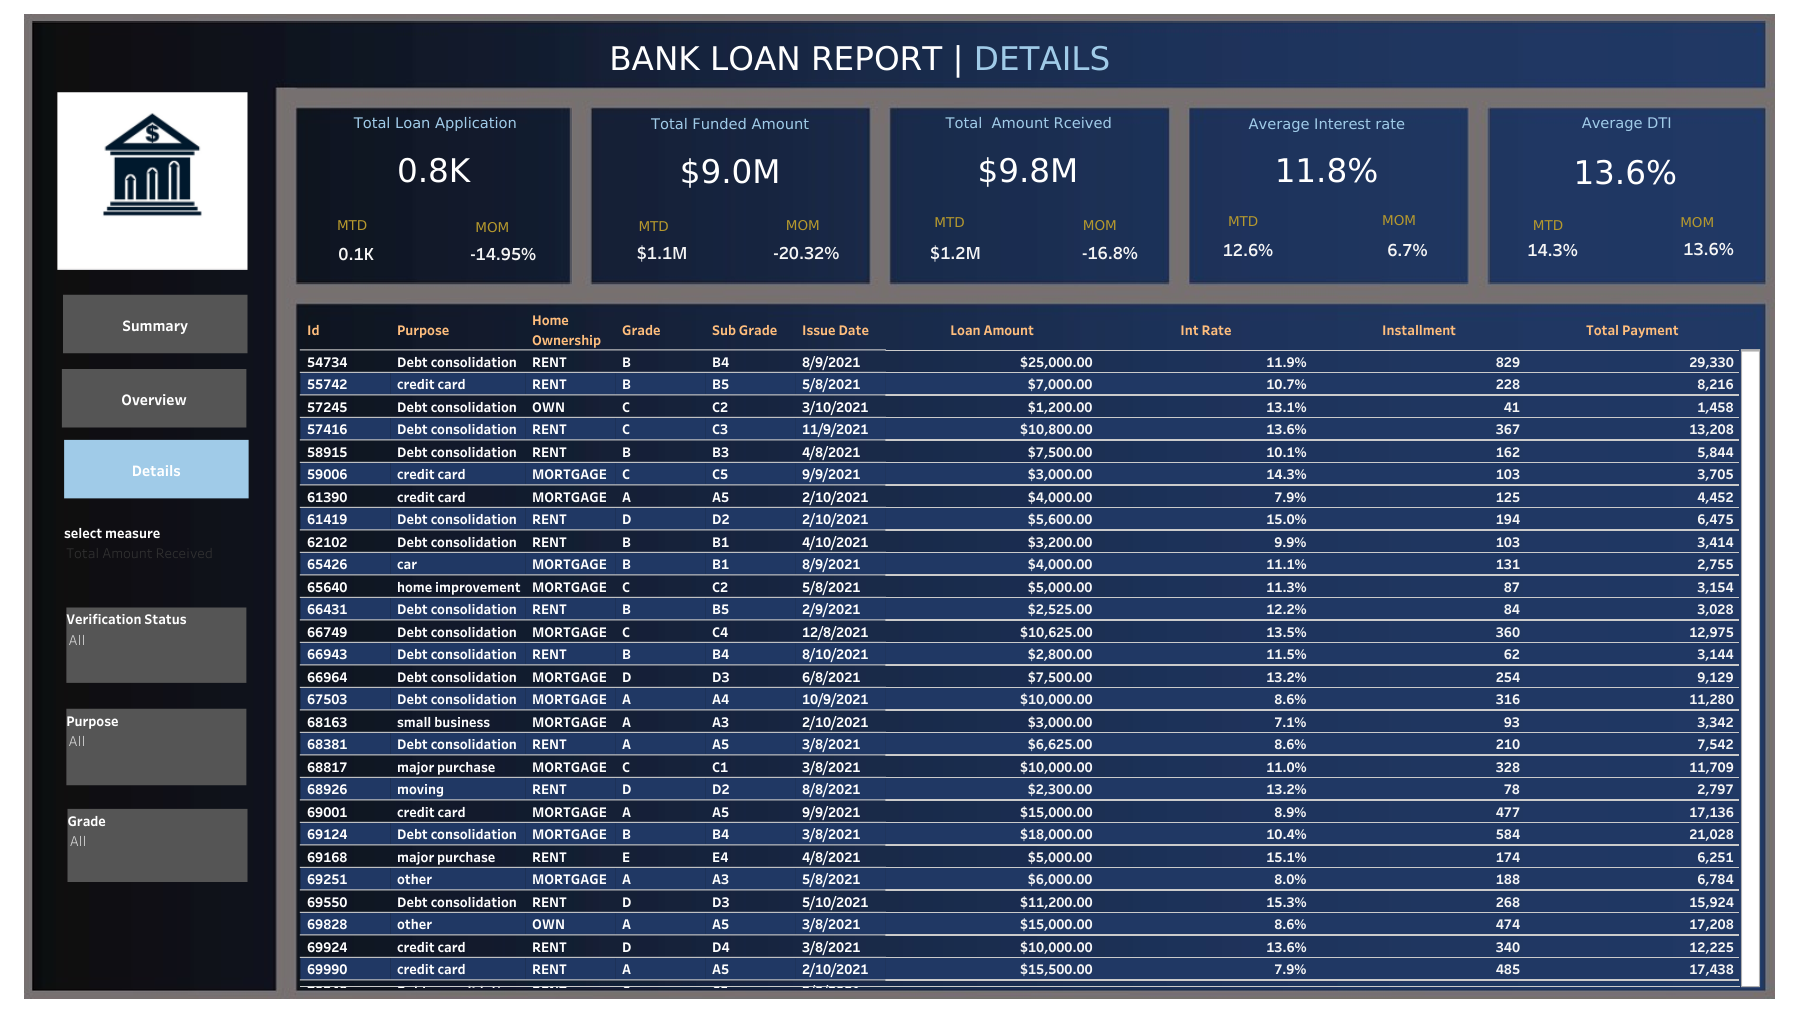

The page's visual inventory and layout, read from the dashboard file:
{"tool":"tableau","page":{"name":"details ","canvas":[1600,900],"ordinal":0},"visuals":[{"type":"image","param":"Image/Tableau Background 3.jpg","box":[8,8,1584,884]},{"type":"text","box":[539,14,720,75]},{"type":"image","param":"Image/bank.jpg","box":[51,82,171,158]},{"type":"worksheet","title":"Total Loan Application","mark":"Automatic","box":[264,95,246,82]},{"type":"worksheet","title":"Total Amount Received","mark":"Automatic","box":[792,95,245,82]},{"type":"worksheet","title":"Average DTI","mark":"Automatic","box":[1323,95,246,84]},{"type":"worksheet","title":"Total Funded Amount","mark":"Automatic","box":[525,96,248,82]},{"type":"worksheet","title":"Average Interest rate","mark":"Automatic","box":[1055,96,249,80]},{"type":"text","box":[1226,180,100,30]},{"type":"text","box":[1089,181,63,30]},{"type":"text","box":[828,182,63,30]},{"type":"text","box":[1491,182,100,30]},{"type":"text","box":[297,184,63,30]},{"type":"text","box":[696,184,100,30]},{"type":"text","box":[960,184,100,30]},{"type":"text","box":[1360,184,63,30]},{"type":"text","box":[565,185,100,30]},{"type":"text","box":[420,186,100,30]},{"type":"worksheet","title":"MoM Average DTI","mark":"Automatic","box":[1461,198,116,43]},{"type":"worksheet","title":"MTD Average Interest Rate","mark":"Automatic","box":[1049,201,122,42]},{"type":"worksheet","title":"MoM Average Interest rate","mark":"Automatic","box":[1199,201,105,42]},{"type":"worksheet","title":"MTD Average DTI","mark":"Automatic","box":[1307,201,148,42]},{"type":"worksheet","title":"MoM Total Funded Amount","mark":"Automatic","box":[676,205,82,37]},{"type":"worksheet","title":"MTD Total Amount Received","mark":"Automatic","box":[778,205,145,38]},{"type":"worksheet","title":"MoM Total Amount Received","mark":"Automatic","box":[921,205,132,37]},{"type":"worksheet","title":"MTD Total Funded Amount","mark":"Automatic","box":[544,206,90,36]},{"type":"worksheet","title":"MTD Total Loan Applications","mark":"Automatic","box":[266,207,103,36]},{"type":"worksheet","title":"MoM Loan Applicationst","mark":"Automatic","box":[400,208,96,34]},{"type":"dashboard-object","box":[56,262,164,52]},{"type":"worksheet","title":"detail chart","mark":"Automatic","rows":["id","purpose","home_ownership","grade","sub_grade","issue_date"],"box":[267,275,1298,603]},{"type":"dashboard-object","box":[55,328,164,52]},{"type":"dashboard-object","box":[57,391,164,52]},{"type":"parameter","param":"[Parameters].[Parameter 1]","box":[57,463,160,58]},{"type":"filter","title":"Average DTI","param":"[federated.12hed4l0pgjz5j1dzlt8n1hdz370].[none:verification_status:nk]","box":[59,540,160,67]},{"type":"filter","title":"Average DTI","param":"[federated.12hed4l0pgjz5j1dzlt8n1hdz370].[none:purpose:nk]","box":[59,630,160,68]},{"type":"filter","title":"Average DTI","param":"[federated.12hed4l0pgjz5j1dzlt8n1hdz370].[none:grade:nk]","box":[60,719,160,65]}]}

Visuals, with their boxes in screenshot pixels (x1, y1, x2, y2), scaled from the page's 1600x900 canvas onto the 1799x1011 screenshot:
image: l=9, t=9, r=1790, b=1002
text: l=606, t=16, r=1416, b=100
image: l=57, t=92, r=250, b=270
"Total Loan Application" worksheet: l=297, t=107, r=573, b=199
"Total Amount Received" worksheet: l=891, t=107, r=1166, b=199
"Average DTI" worksheet: l=1488, t=107, r=1764, b=201
"Total Funded Amount" worksheet: l=590, t=108, r=869, b=200
"Average Interest rate" worksheet: l=1186, t=108, r=1466, b=198
text: l=1378, t=202, r=1491, b=236
text: l=1224, t=203, r=1295, b=237
text: l=931, t=204, r=1002, b=238
text: l=1676, t=204, r=1789, b=238
text: l=334, t=207, r=405, b=240
text: l=783, t=207, r=895, b=240
text: l=1079, t=207, r=1192, b=240
text: l=1529, t=207, r=1600, b=240
text: l=635, t=208, r=748, b=242
text: l=472, t=209, r=585, b=243
"MoM Average DTI" worksheet: l=1643, t=222, r=1773, b=271
"MTD Average Interest Rate" worksheet: l=1179, t=226, r=1317, b=273
"MoM Average Interest rate" worksheet: l=1348, t=226, r=1466, b=273
"MTD Average DTI" worksheet: l=1470, t=226, r=1636, b=273
"MoM Total Funded Amount" worksheet: l=760, t=230, r=852, b=272
"MTD Total Amount Received" worksheet: l=875, t=230, r=1038, b=273
"MoM Total Amount Received" worksheet: l=1036, t=230, r=1184, b=272
"MTD Total Funded Amount" worksheet: l=612, t=231, r=713, b=272
"MTD Total Loan Applications" worksheet: l=299, t=233, r=415, b=273
"MoM Loan Applicationst" worksheet: l=450, t=234, r=558, b=272
dashboard-object: l=63, t=294, r=247, b=353
"detail chart" worksheet: l=300, t=309, r=1760, b=986
dashboard-object: l=62, t=368, r=246, b=427
dashboard-object: l=64, t=439, r=248, b=498
parameter: l=64, t=520, r=244, b=585
"Average DTI" filter: l=66, t=607, r=246, b=682
"Average DTI" filter: l=66, t=708, r=246, b=784
"Average DTI" filter: l=67, t=808, r=247, b=881
